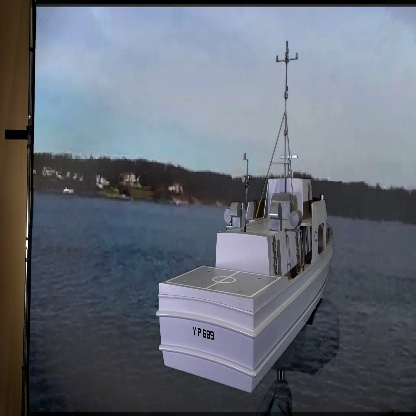YP689: (156, 35, 336, 393)
